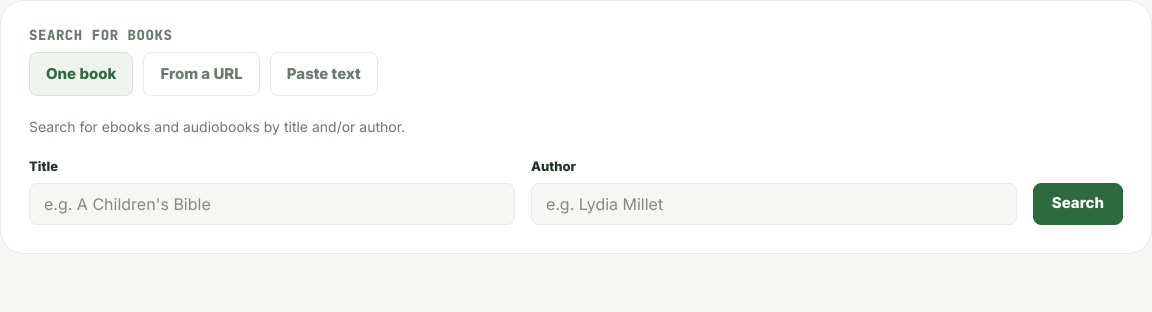
it: SearchCard › validates the import tabs independently of the book-search fields
Step 1. Click the tab "From a URL" → (202, 74), box x1=144 y1=52 x2=260 y2=96
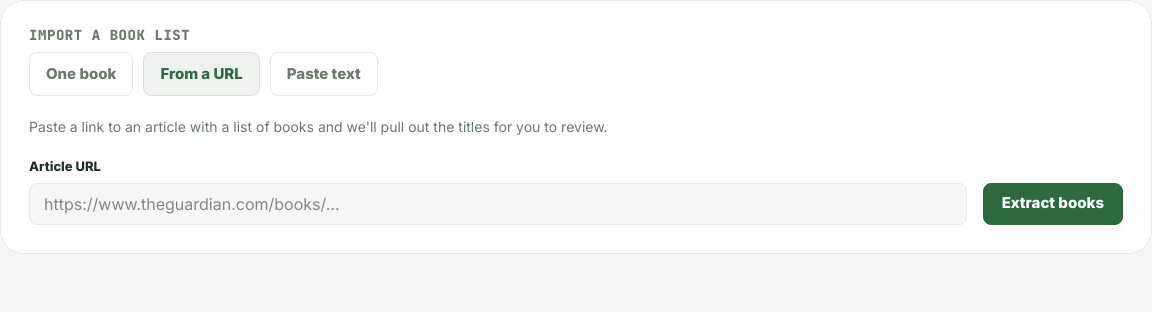
Step 2. Click the button "Extract books" → (1053, 204), box x1=983 y1=182 x2=1123 y2=224
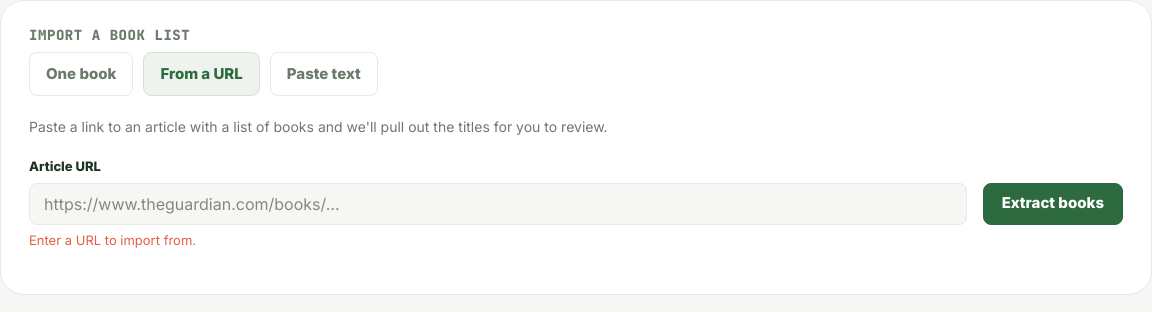
Check: the text "Enter a URL to import from." is shown, box x1=29 y1=232 x2=196 y2=248
